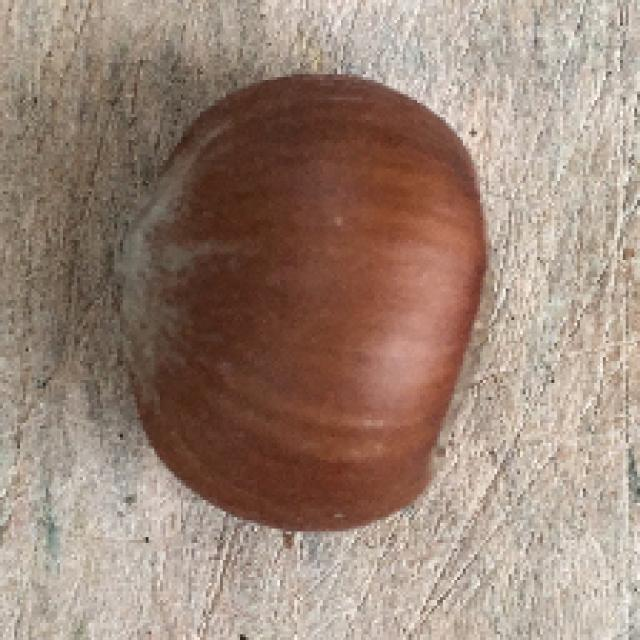qualityHazelnut: (113, 69, 500, 530)
